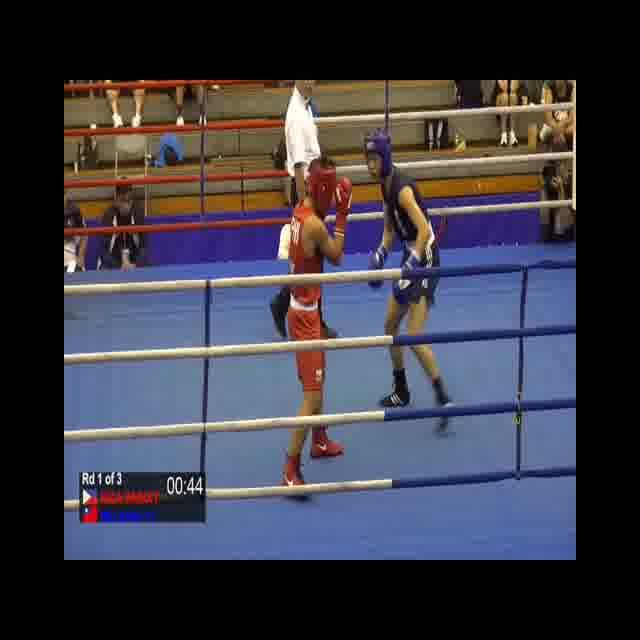blue-player: (361, 125, 458, 438)
red-player: (277, 154, 353, 503)
referee: (267, 81, 342, 346)
